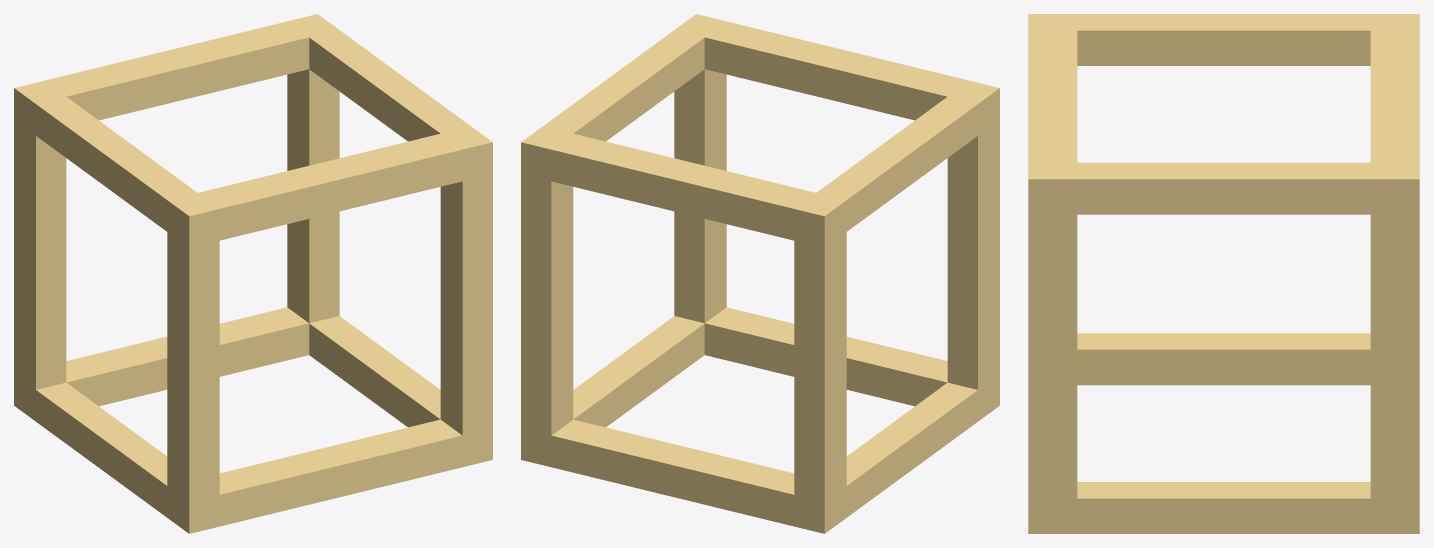
The model's file is c4dcube.gltf.
3 views of the same model, side by side, from view 1: azimuth 30°, elevation 25°; view 2: azimuth 150°, elevation 25°; view 3: azimuth 270°, elevation 25° (orthographic). The views are drawn at different scales.
Visible parts, largest first — view 1: Boole; view 2: Boole; view 3: Boole.
Part boxes in pixels (x1,y1,x2,y2): Boole: (14, 14, 492, 533); Boole: (521, 14, 999, 533); Boole: (1028, 14, 1419, 533).
Bounding box in the file's own units: 200 × 200 × 200.
